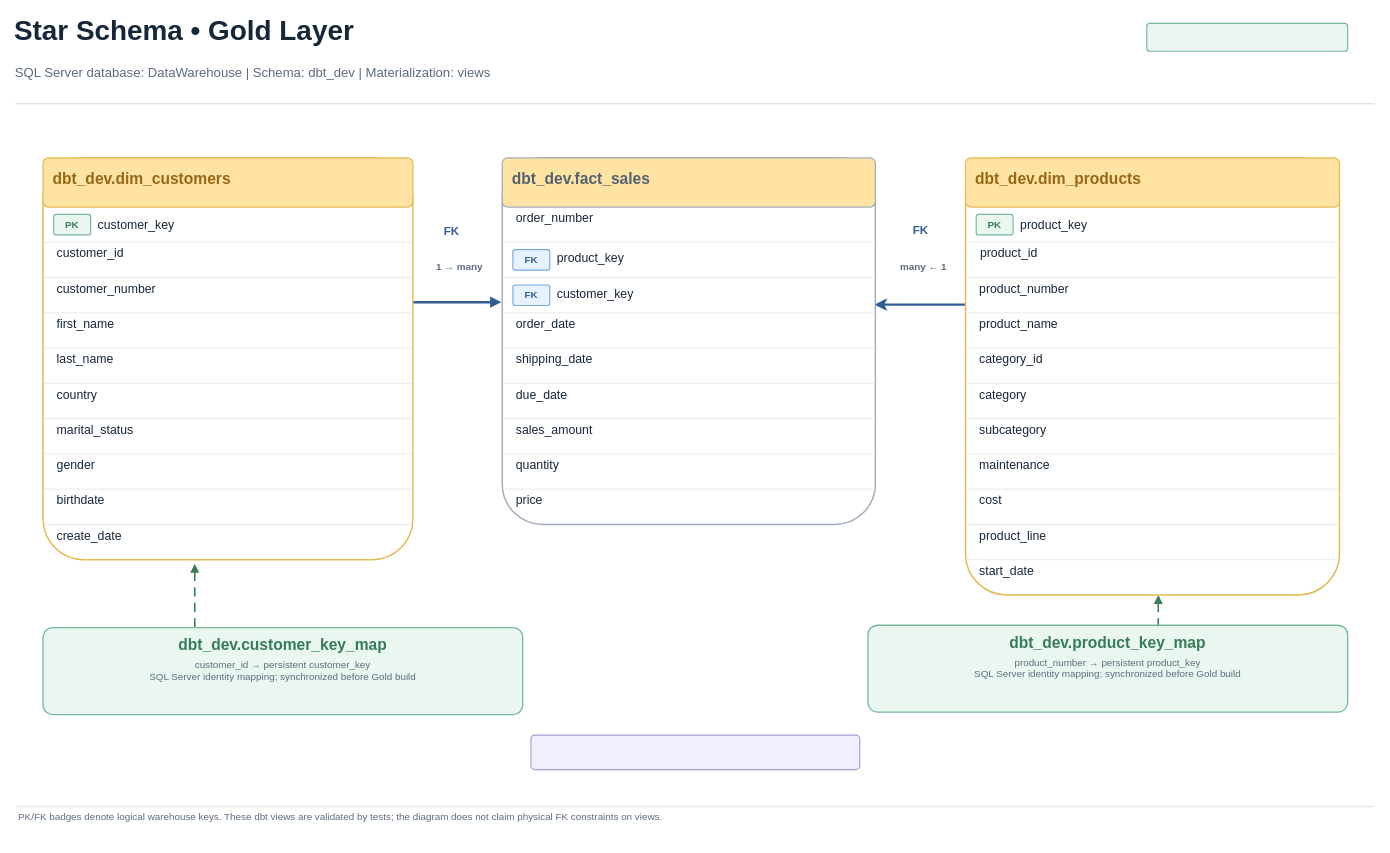
The diagram is 1390 pixels wide and 853 high, and some of its shapes have lost their labels. Each missing label, with the box of its shape:
ACTUAL MODEL FIELDS: (1146, 22, 1348, 51)
Gold relationships validated by dbt tests: (530, 734, 860, 770)
